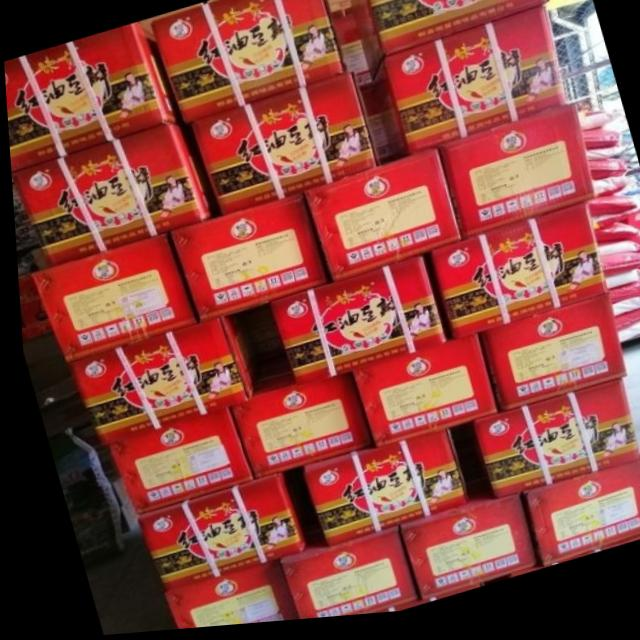box: (371, 12, 566, 162), (11, 124, 213, 268), (193, 77, 381, 220), (3, 23, 176, 173), (150, 0, 345, 130), (424, 210, 602, 347), (65, 317, 252, 446), (265, 261, 440, 390), (435, 111, 593, 247), (300, 152, 459, 287), (29, 236, 191, 362), (129, 474, 299, 592), (168, 197, 324, 325), (467, 389, 634, 507), (297, 436, 460, 552), (346, 0, 547, 89), (475, 301, 621, 419), (348, 340, 492, 454), (392, 492, 533, 605), (104, 409, 245, 515), (225, 374, 364, 481), (516, 467, 640, 575), (275, 531, 408, 624), (155, 563, 288, 631)
